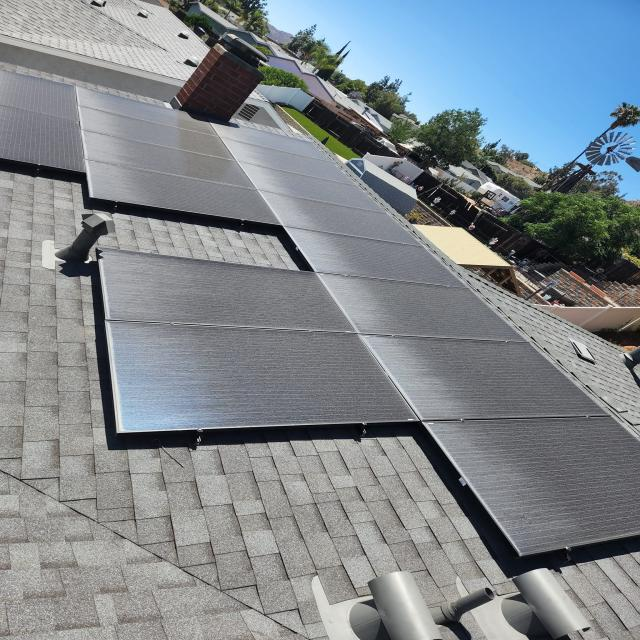dust-solar-panel: (0, 67, 638, 558)
